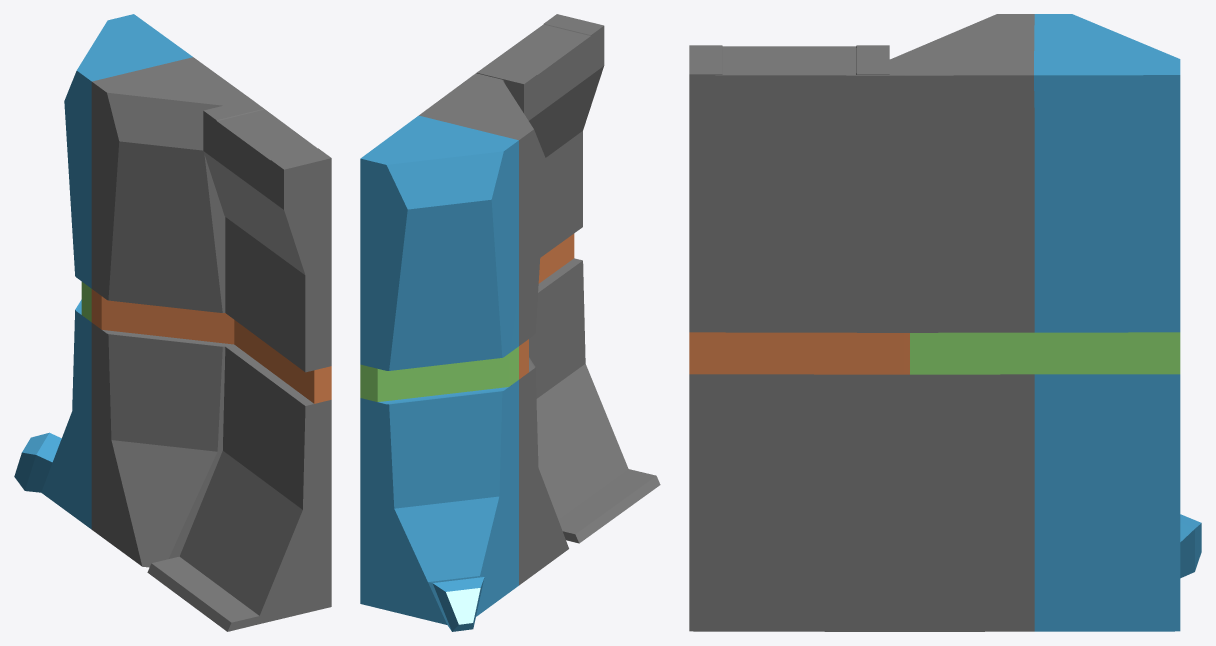
The model's file is CornerColumnInOutExtended.fbx.
3 views of the same model, side by side, from view 1: azimuth 30°, elevation 25°; view 2: azimuth 150°, elevation 25°; view 3: azimuth 270°, elevation 25° (orthographic). The views are drawn at different scales.
Visible parts, largest first — view 1: CornerColumnInOutExtended; view 2: CornerColumnInOutExtended; view 3: CornerColumnInOutExtended.
Boxes of the visible parts, left/top/right/bottom form: CornerColumnInOutExtended: left=14, top=14, right=331, bottom=631; CornerColumnInOutExtended: left=360, top=14, right=660, bottom=631; CornerColumnInOutExtended: left=689, top=14, right=1201, bottom=631.
Size of the model in its own units: 68.52 by 250 by 209.
